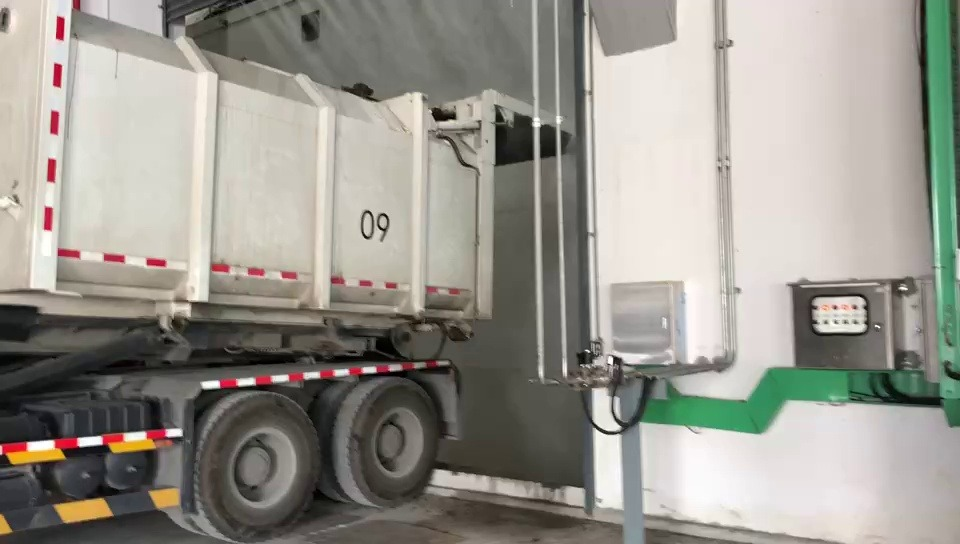truck: (0, 0, 520, 538)
